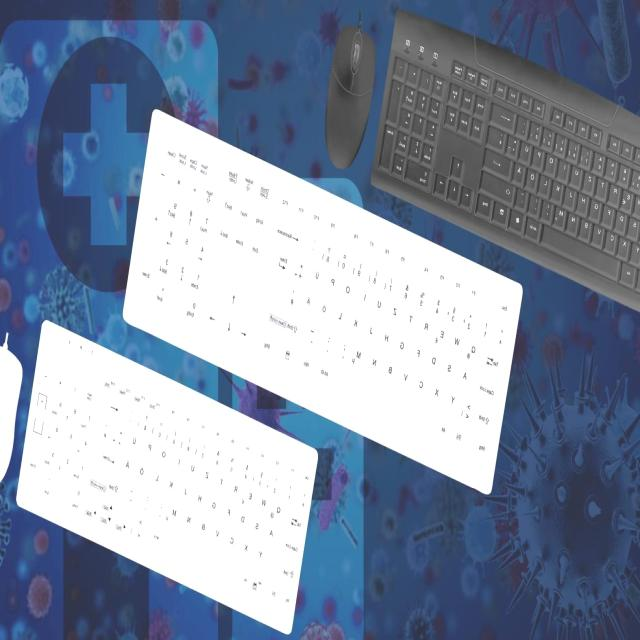keyboard: (121, 102, 525, 498), (15, 315, 319, 639), (367, 4, 640, 329)
